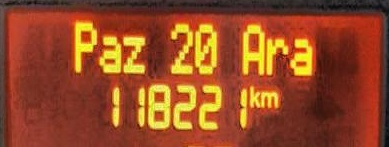0: (194, 20, 218, 75)
1: (109, 78, 122, 131), (133, 81, 145, 129), (239, 84, 248, 132)
2: (169, 18, 192, 75), (173, 81, 196, 129), (199, 82, 220, 131)
8: (147, 79, 170, 131)
X: (72, 18, 96, 72), (240, 23, 263, 76), (97, 29, 120, 73), (121, 32, 145, 74), (291, 35, 311, 76), (265, 35, 285, 75), (260, 88, 279, 109), (249, 83, 261, 108)
